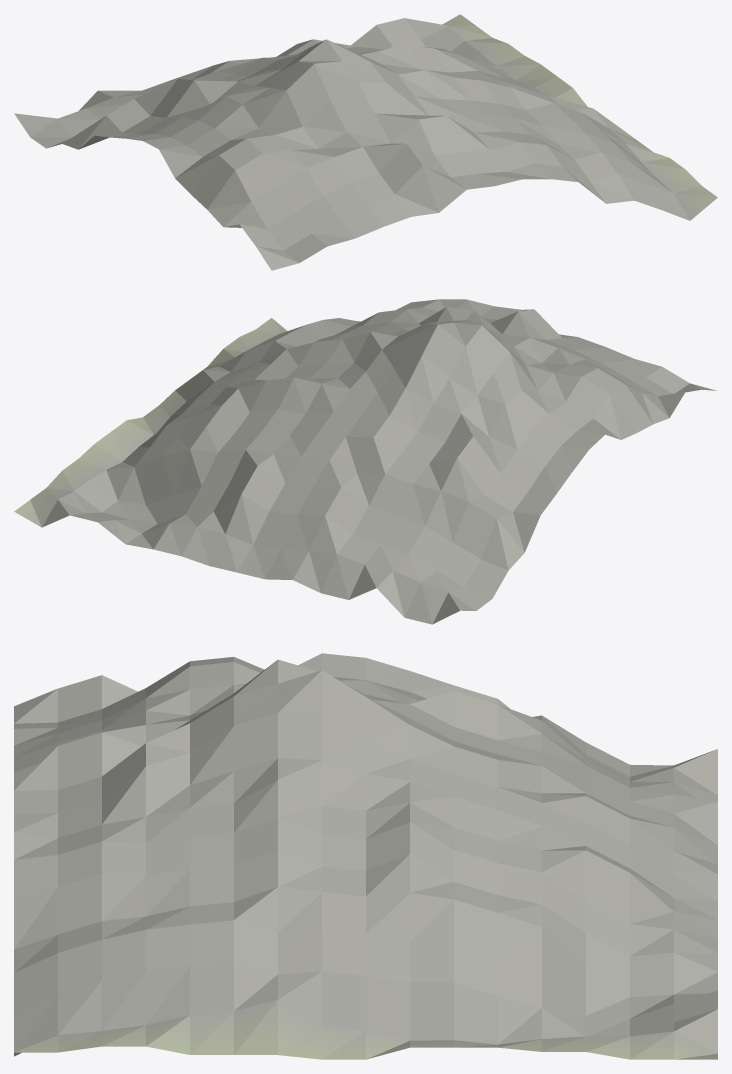
3 views of the same model, one above another, from view 1: azimuth 30°, elevation 25°; view 2: azimuth 150°, elevation 25°; view 3: azimuth 270°, elevation 25° (orthographic). The views are drawn at different scales.
Size of the model in its own units: 32 by 10.99 by 32.
